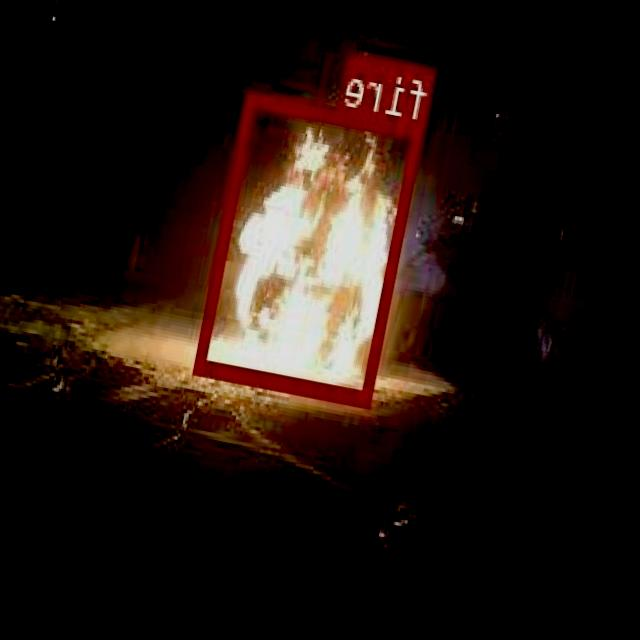fire: (195, 89, 428, 406)
